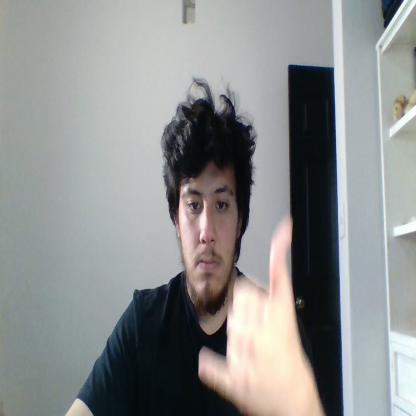Y: (199, 214, 318, 415)
